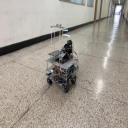cart: (44, 53, 78, 93)
